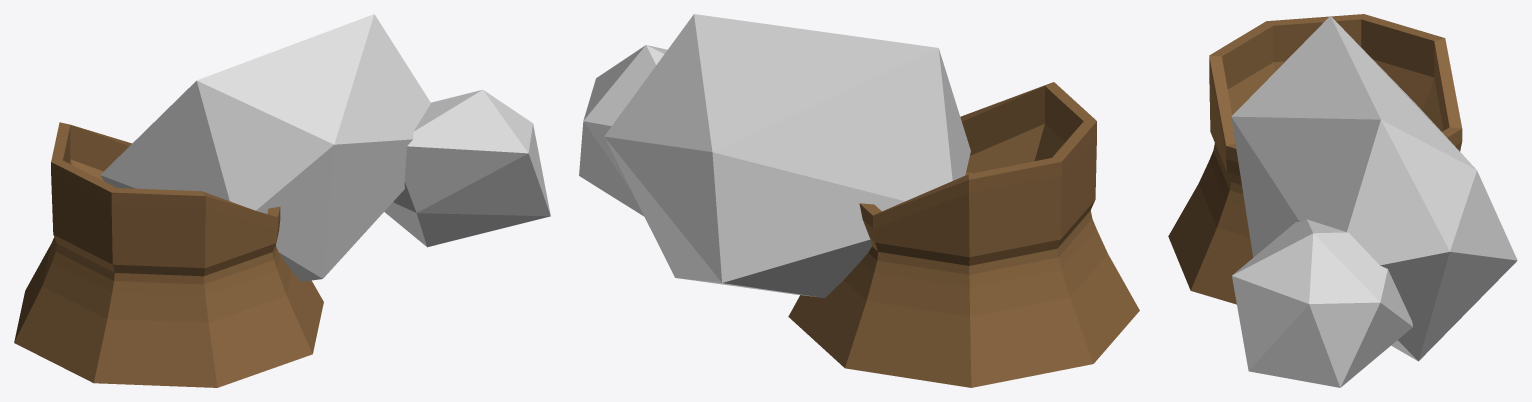
Rendered from Decore.fbx.
3 renders of one model, left to right at view 1: azimuth 30°, elevation 25°; view 2: azimuth 150°, elevation 25°; view 3: azimuth 270°, elevation 25°, orthographic. The views are drawn at different scales.
Visible parts, largest first — view 1: Circle.246, Icosphere.006, Icosphere.007; view 2: Icosphere.006, Circle.246, Icosphere.007; view 3: Icosphere.006, Circle.246, Icosphere.007.
Part boxes in pixels (x1=…): Circle.246: x1=14, y1=122, x2=323, y2=387; Icosphere.006: x1=100, y1=14, x2=430, y2=281; Icosphere.007: x1=384, y1=89, x2=550, y2=247; Icosphere.006: x1=604, y1=14, x2=970, y2=297; Circle.246: x1=788, y1=82, x2=1139, y2=387; Icosphere.007: x1=579, y1=45, x2=667, y2=216; Icosphere.006: x1=1231, y1=16, x2=1517, y2=361; Circle.246: x1=1168, y1=14, x2=1462, y2=304; Icosphere.007: x1=1232, y1=219, x2=1412, y2=387.
Bounding box in the file's own units: 26.06 × 12.06 × 15.3.
